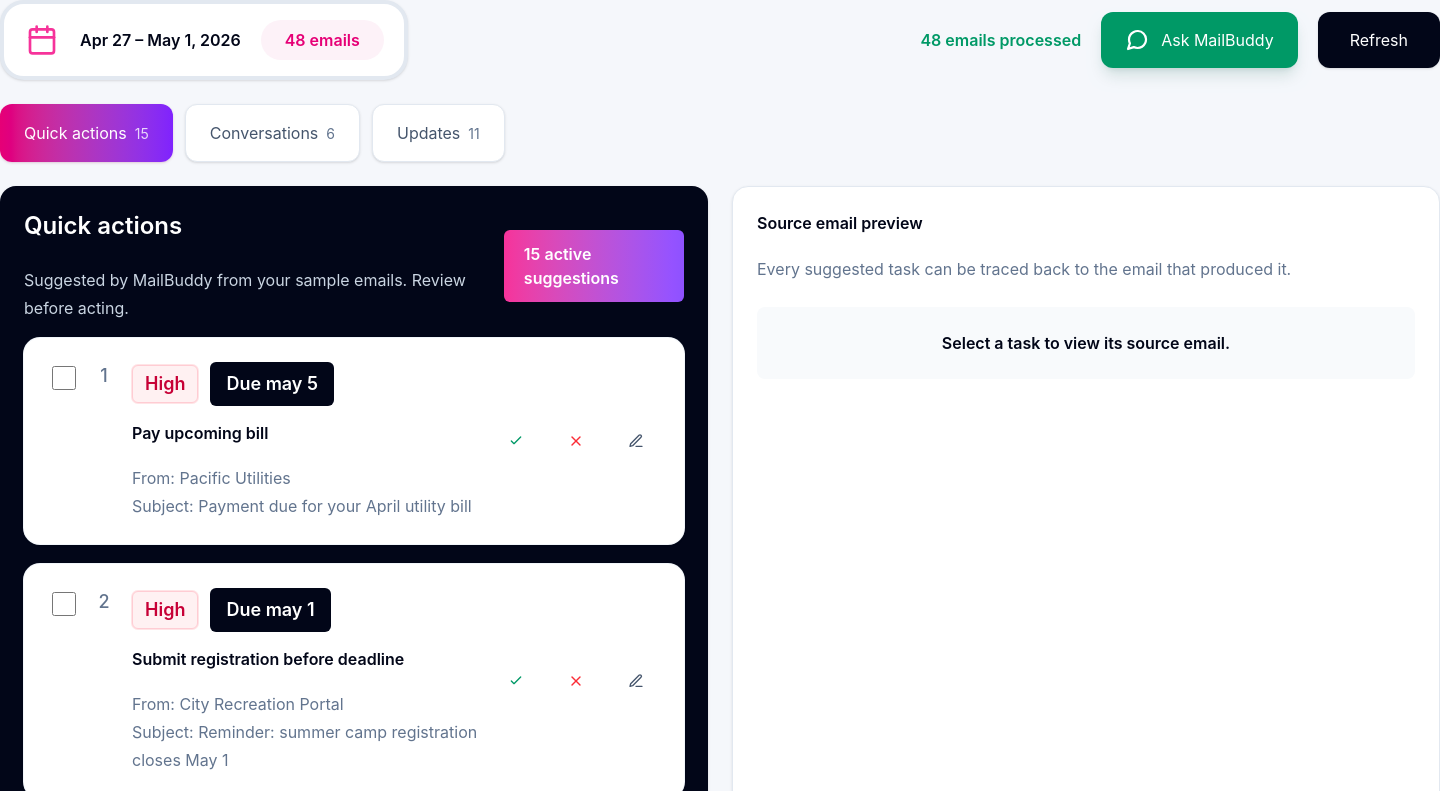
Test: Dashboard integration › filters spend statistics by category within the selected date range
Click the button "Updates11": (438, 133) x1=372 y1=104 x2=505 y2=162
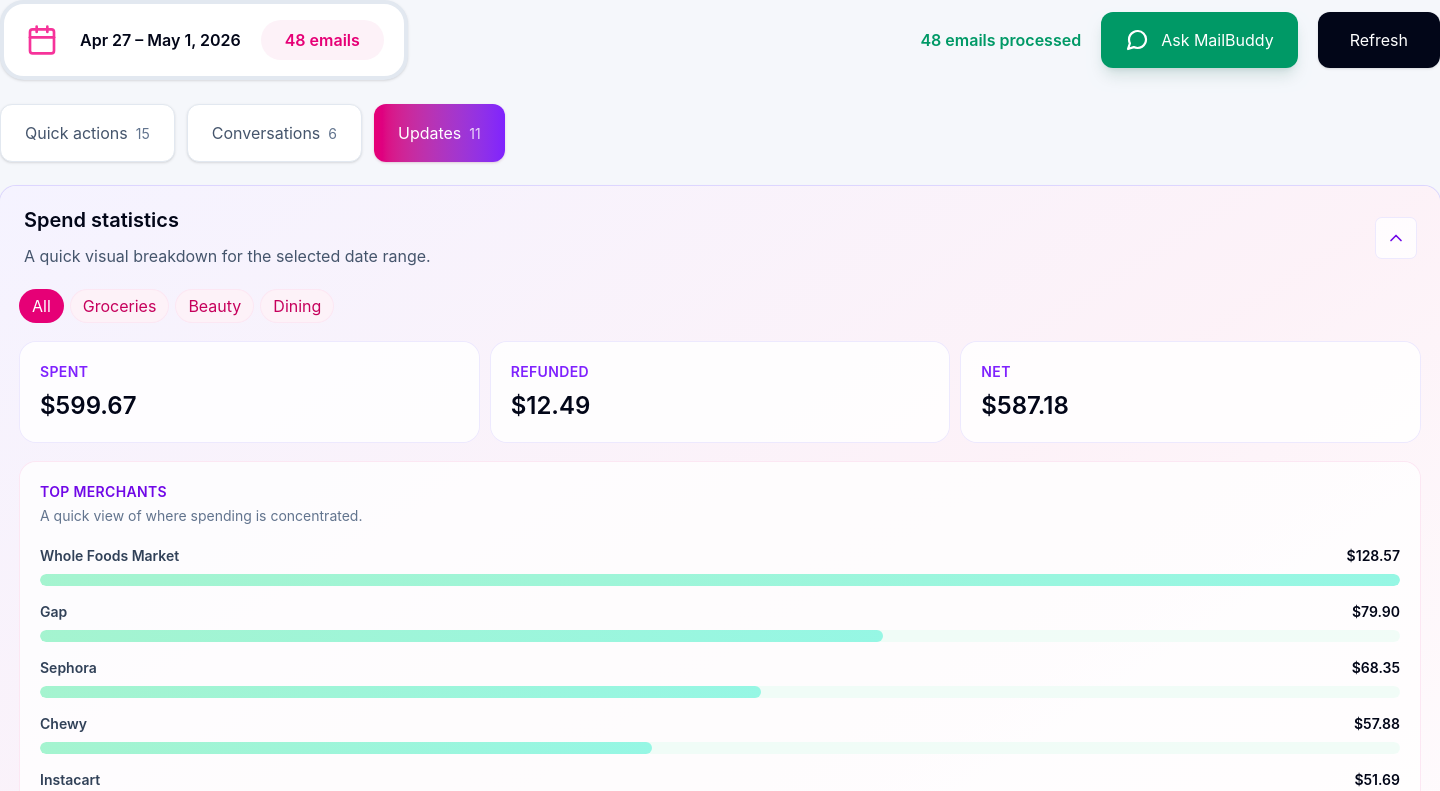
Result: the text "Whole Foods Market" is shown at x1=40 y1=546 x2=179 y2=566
Result: the text "Sephora" is shown at x1=40 y1=658 x2=97 y2=678
Click the button "Beauty": (215, 306) x1=176 y1=290 x2=253 y2=322
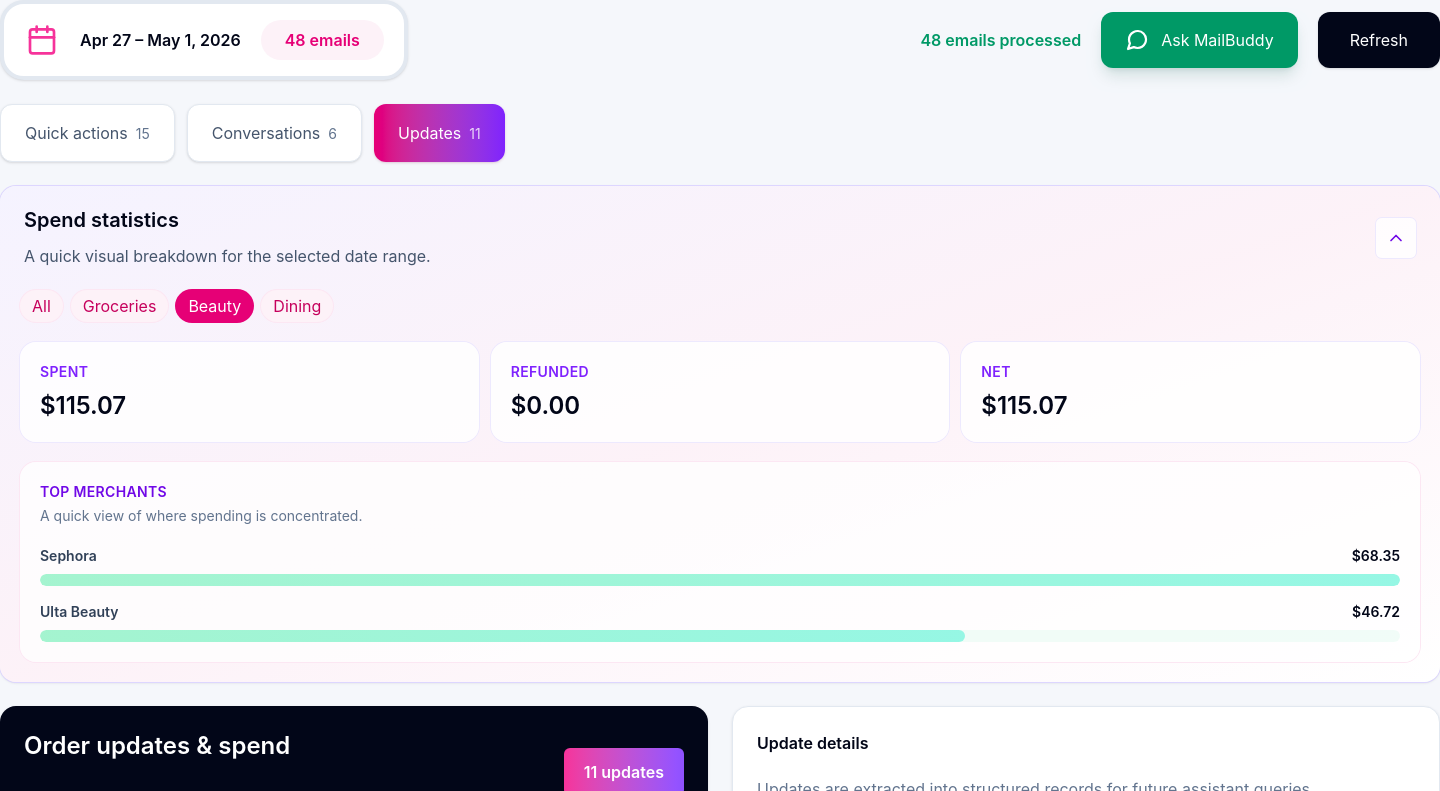
Result: the text "Sephora" is shown at x1=40 y1=546 x2=97 y2=566
Result: the text "Ulta Beauty" is shown at x1=40 y1=602 x2=118 y2=622
Result: the text "$115.07" below "Spent" is shown at x1=40 y1=391 x2=126 y2=420
Click the button "Dining": (297, 306) x1=261 y1=290 x2=333 y2=322
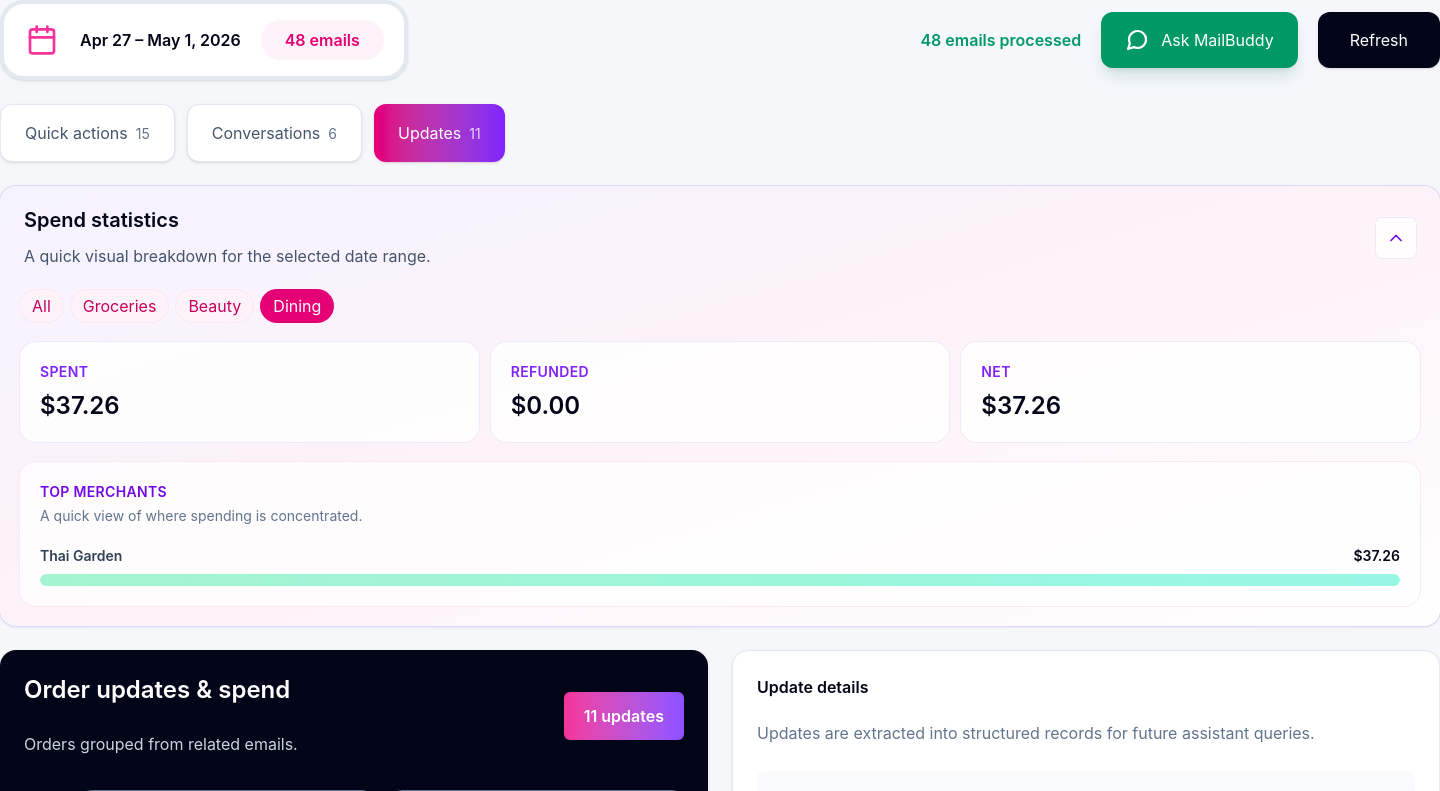
Expected: the text "Sephora" is not shown
Result: the text "Thai Garden" is shown at x1=40 y1=546 x2=122 y2=566
Result: the text "$37.26" below "Spent" is shown at x1=40 y1=391 x2=120 y2=420
Click the button "All": (41, 306) x1=20 y1=290 x2=63 y2=322
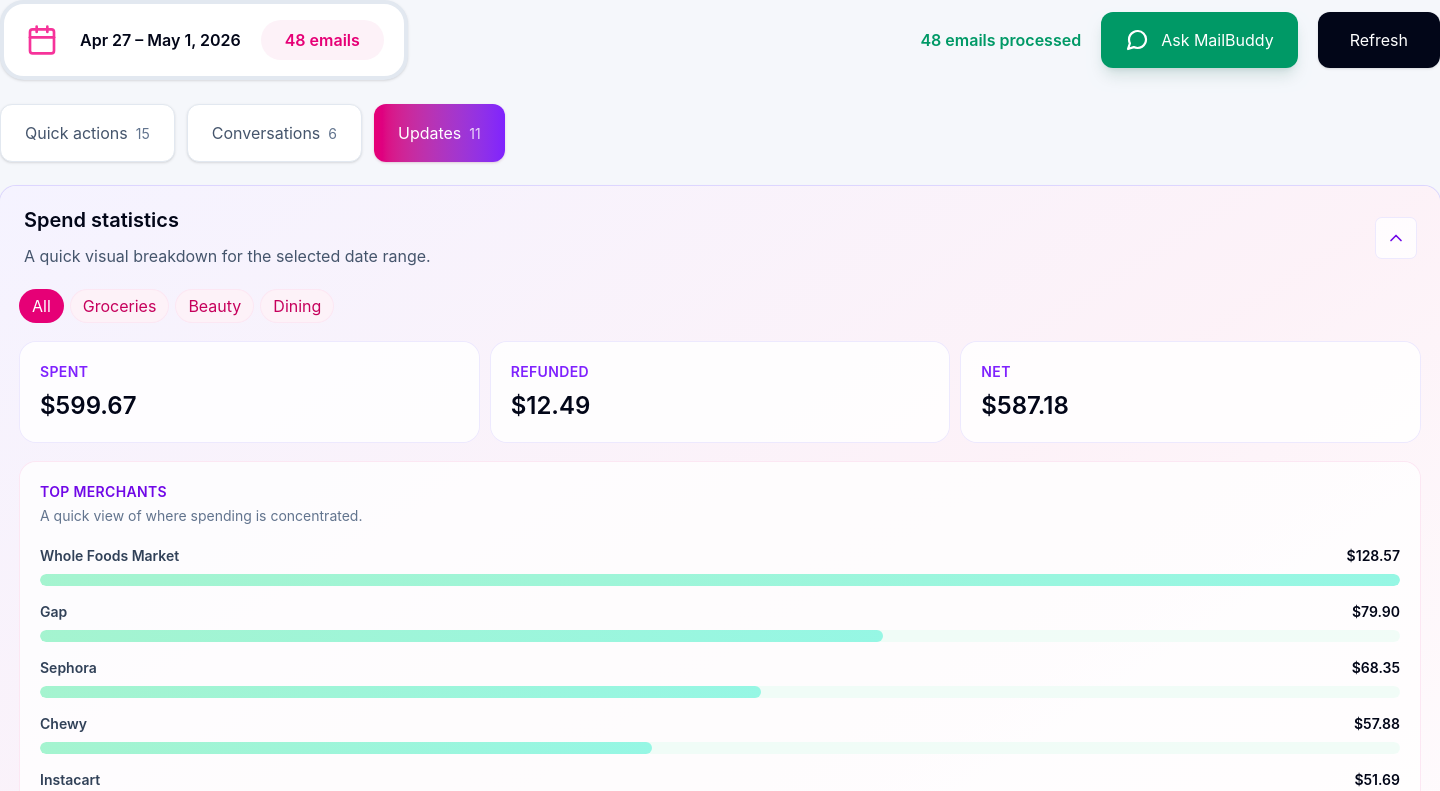
Result: the text "Whole Foods Market" is shown at x1=40 y1=546 x2=179 y2=566
Result: the text "Sephora" is shown at x1=40 y1=658 x2=97 y2=678
